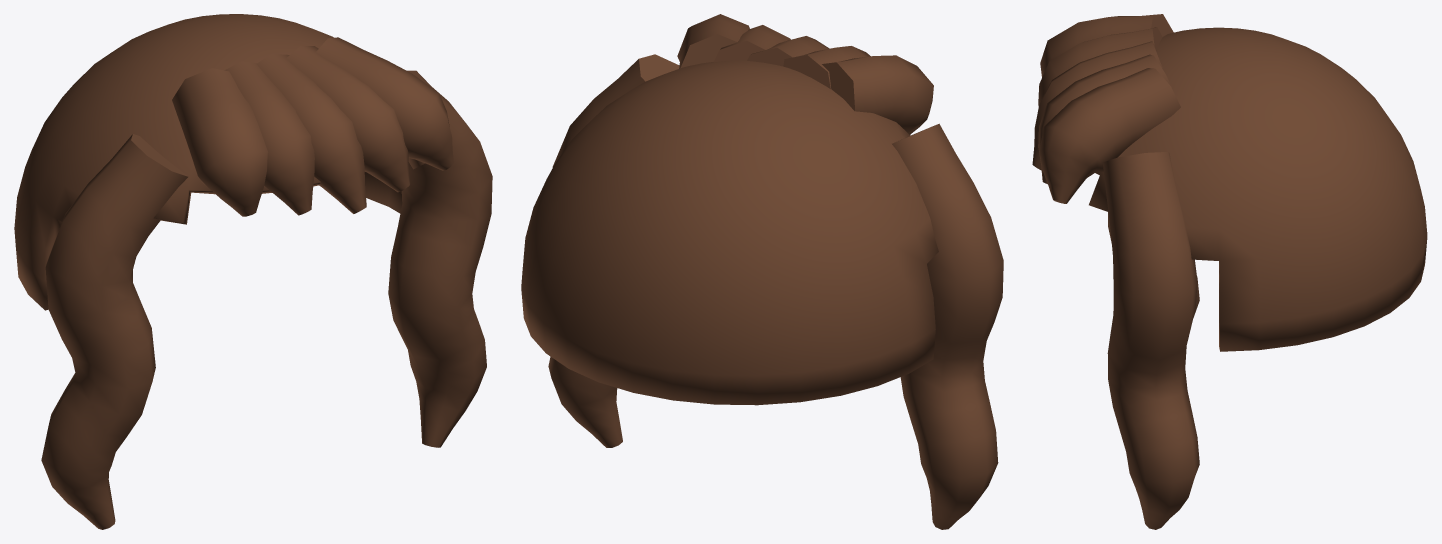
Rendered from hair_wave.glb.
3 renders of one model, left to right at view 1: azimuth 30°, elevation 25°; view 2: azimuth 150°, elevation 25°; view 3: azimuth 270°, elevation 25°, orthographic. The views are drawn at different scales.
Visible parts, largest first — view 1: lock; view 2: lock; view 3: lock.
Part boxes in pixels (x1,y1,x2,y2): lock: (14, 14, 492, 529); lock: (521, 14, 1003, 529); lock: (1032, 14, 1427, 529).
Bounding box in the file's own units: 2.63 × 2.51 × 2.19.
